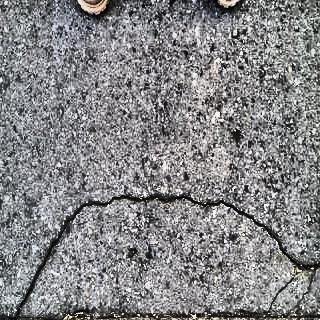crack: (61, 187, 250, 231), (10, 203, 74, 320), (241, 211, 320, 275)
